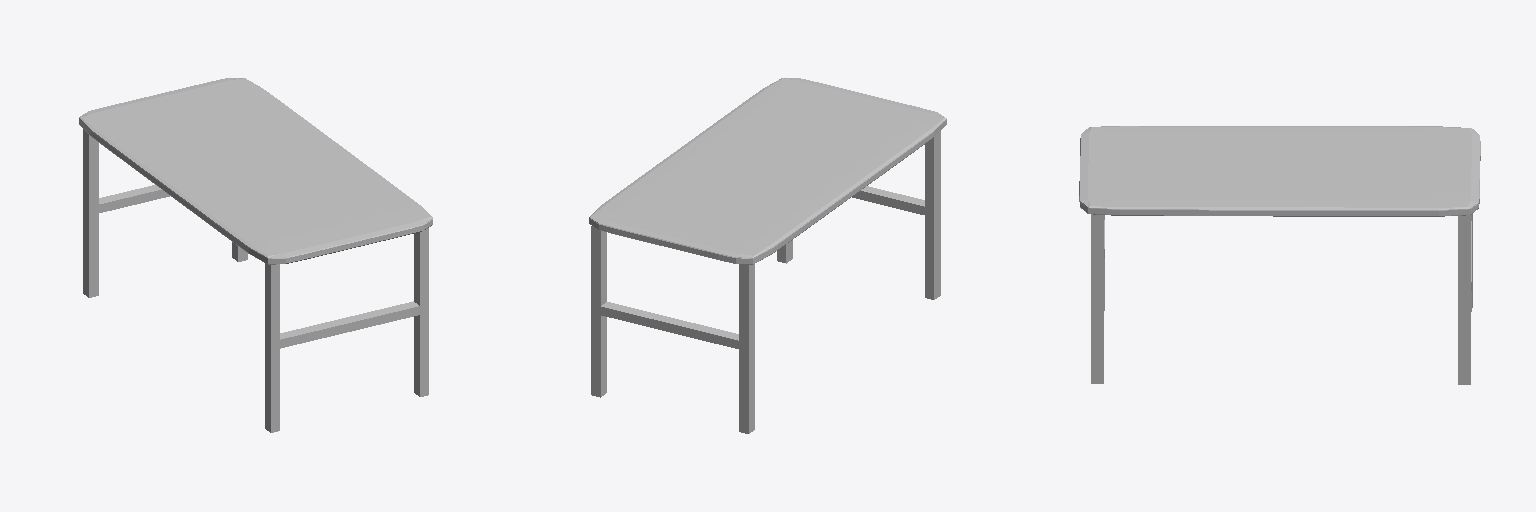
Rendered from Escritorio.obj.
The picture shows the model from 3 angles: view 1: azimuth 30°, elevation 25°; view 2: azimuth 150°, elevation 25°; view 3: azimuth 270°, elevation 25°; orthographic projection.
Visible parts, largest first — view 1: Cuarto:Mesa:mesa:Mesh; view 2: Cuarto:Mesa:mesa:Mesh; view 3: Cuarto:Mesa:mesa:Mesh.
Boxes of the visible parts, x1=… form: Cuarto:Mesa:mesa:Mesh: x1=79, y1=78, x2=432, y2=432; Cuarto:Mesa:mesa:Mesh: x1=589, y1=78, x2=946, y2=433; Cuarto:Mesa:mesa:Mesh: x1=1079, y1=126, x2=1480, y2=384.
Bounding box in the file's own units: 1.52 × 1.49 × 3.04.